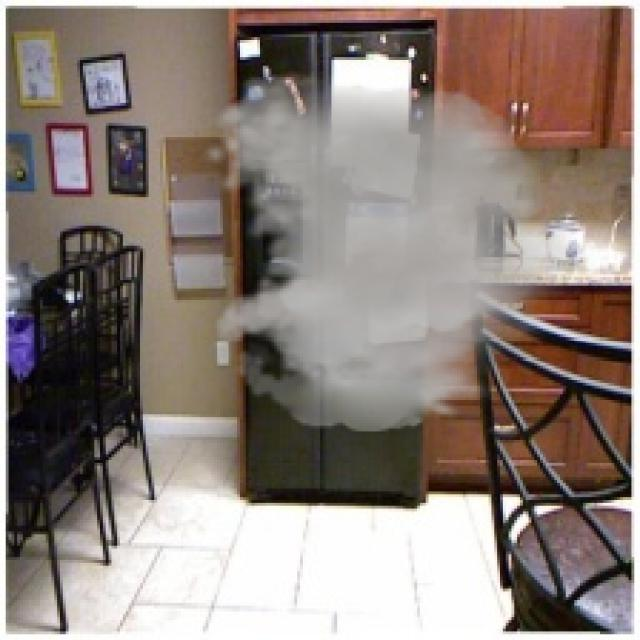smoke: (203, 71, 597, 432)
